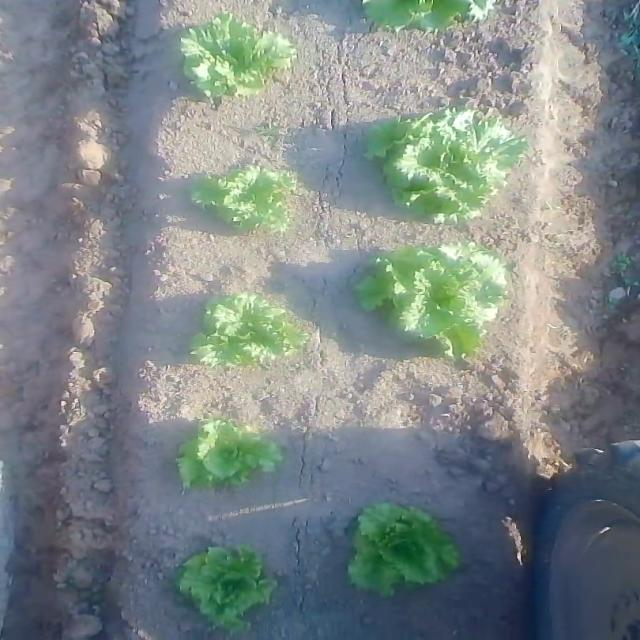Lettuce-Ready-to-Harvest: (364, 109, 527, 226), (355, 242, 508, 360), (346, 502, 462, 598), (180, 11, 295, 102), (189, 290, 310, 368), (175, 414, 282, 495), (175, 545, 277, 628), (189, 165, 295, 234)
